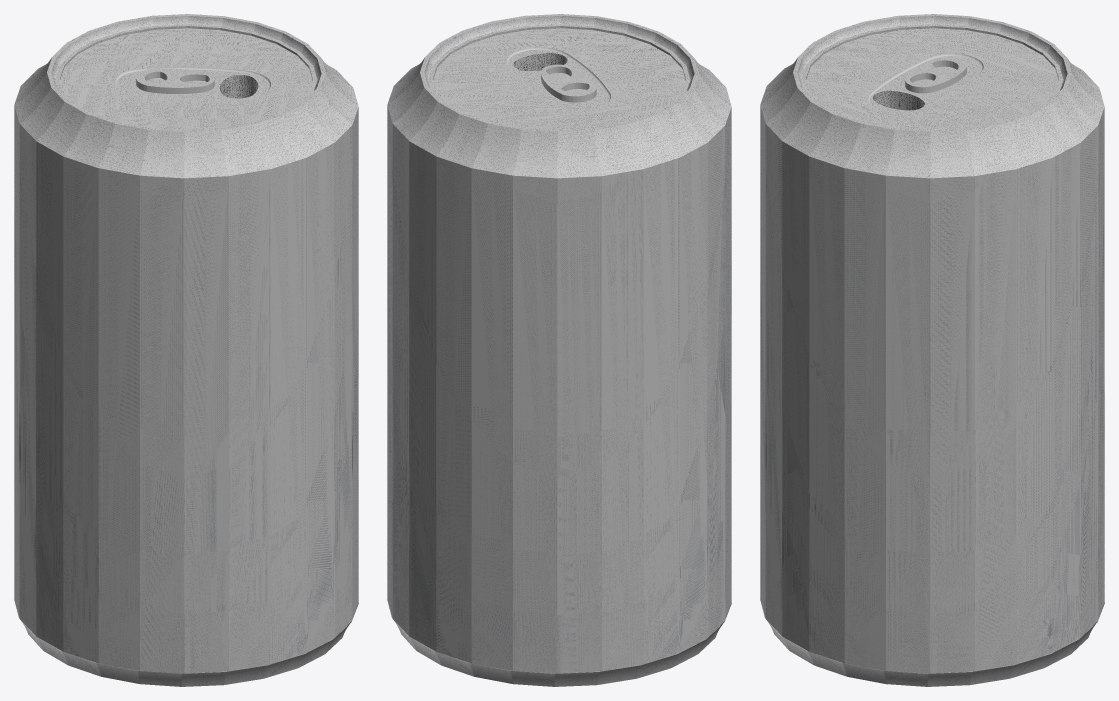
3 views of the same model, side by side, from view 1: azimuth 30°, elevation 25°; view 2: azimuth 150°, elevation 25°; view 3: azimuth 270°, elevation 25° (orthographic).
Visible parts, largest first — view 1: mesh1_mesh1-geometry; view 2: mesh1_mesh1-geometry; view 3: mesh1_mesh1-geometry.
Part boxes in pixels (<box>): mesh1_mesh1-geometry: <box>14,14,358,686</box>; mesh1_mesh1-geometry: <box>387,14,731,686</box>; mesh1_mesh1-geometry: <box>760,14,1104,686</box>.
Size of the model in its own units: 0.4453 by 0.7768 by 0.4453.
